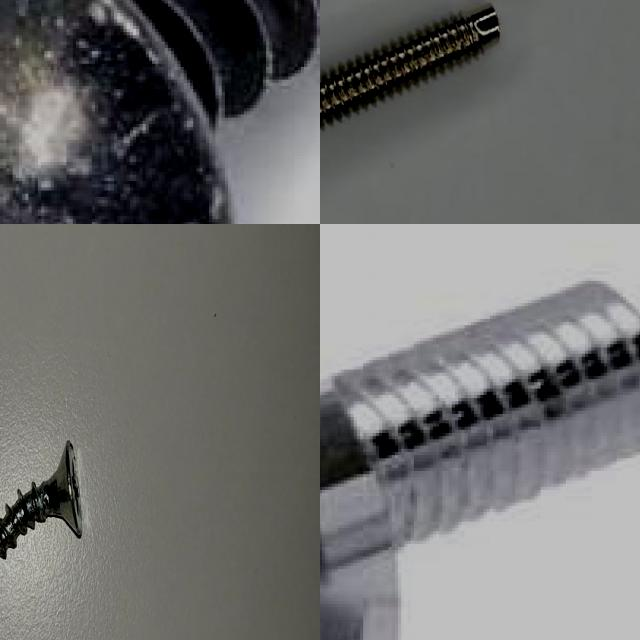Screw: (320, 281, 640, 640), (0, 0, 320, 224), (320, 8, 501, 120), (0, 441, 83, 558)
